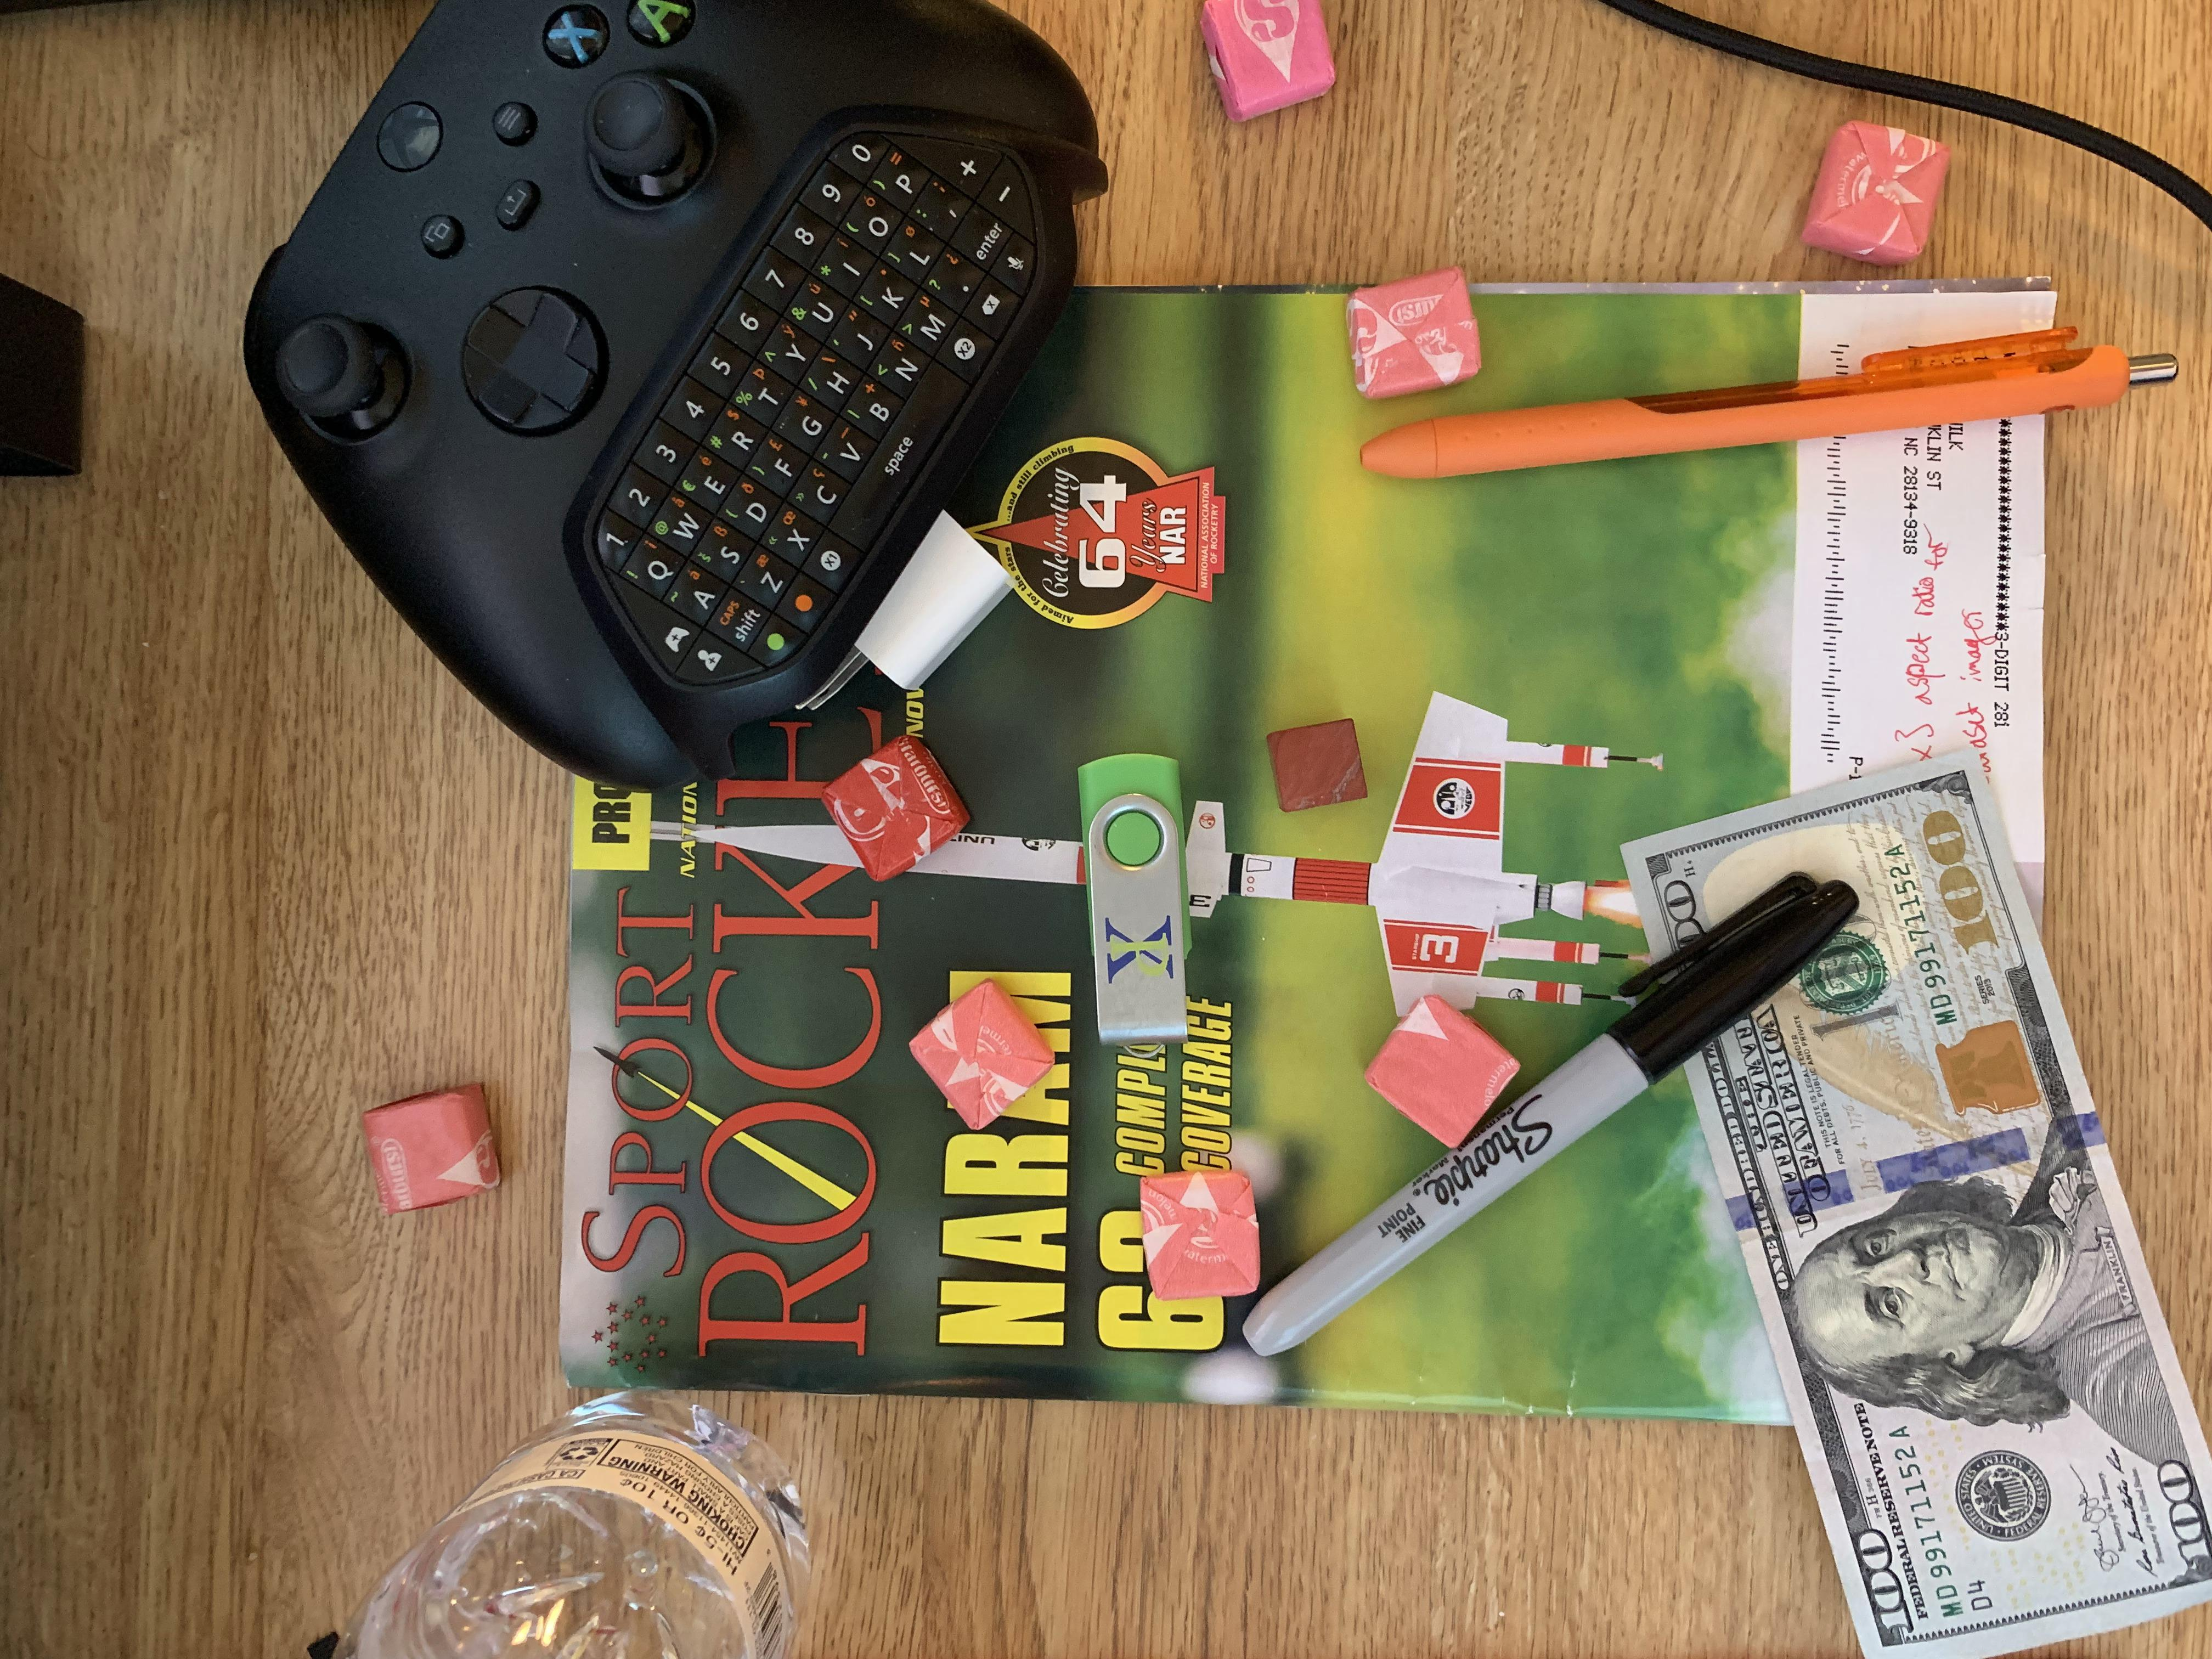HundredBill: (1618, 746, 2210, 1657)
